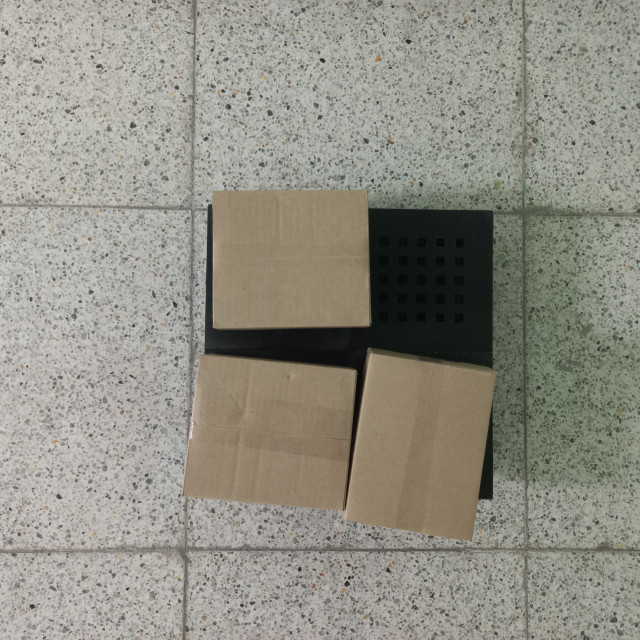box: (187, 96, 304, 292), (291, 129, 426, 288), (281, 307, 403, 453)
